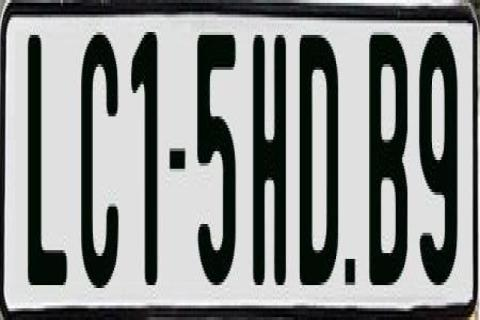0: (194, 32, 237, 285), (416, 26, 456, 288), (128, 26, 162, 282)
B: (366, 27, 410, 286)
C: (80, 26, 118, 291)
D: (300, 27, 343, 280)
H: (252, 26, 291, 288)
L: (27, 35, 68, 285)
